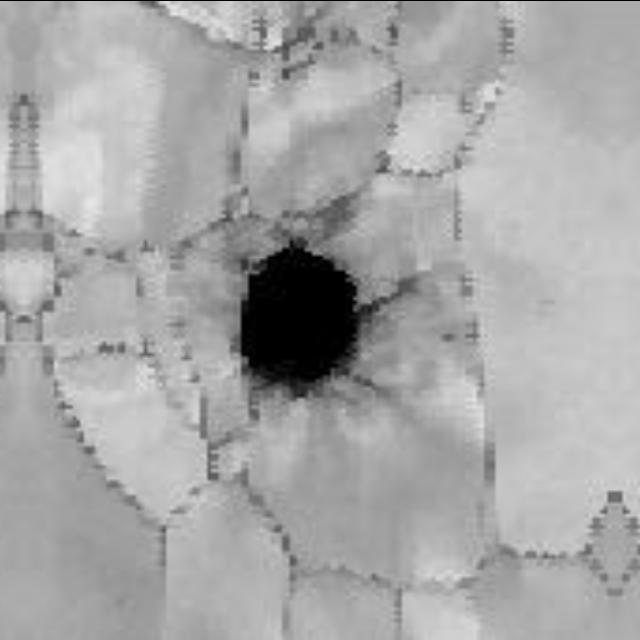good_void: (234, 238, 416, 400)
